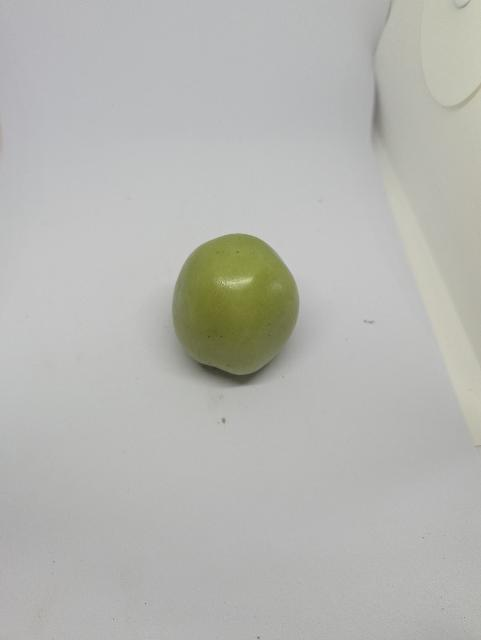green: (155, 214, 307, 398)
